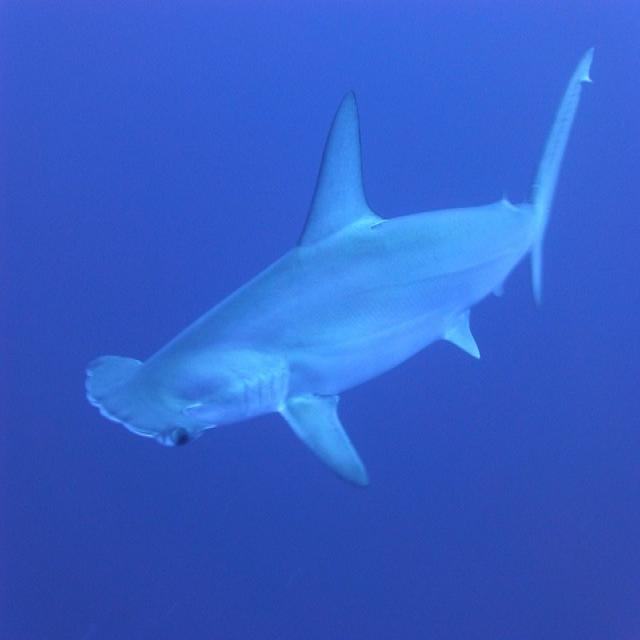Carnivorous: (83, 51, 595, 489)
